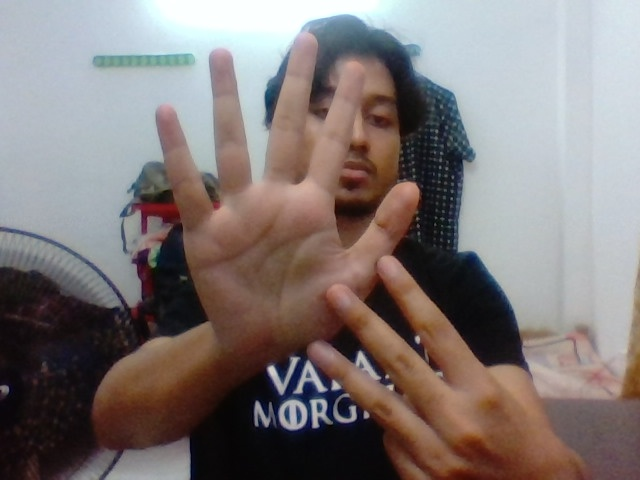M: (147, 33, 486, 428)
